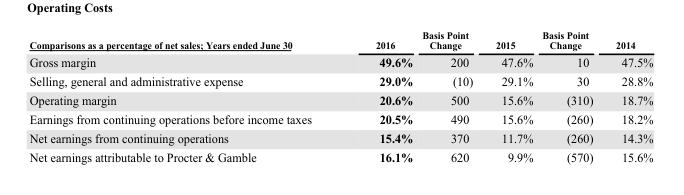table: (28, 28, 652, 163)
table column: (28, 28, 342, 163), (342, 28, 416, 163), (416, 28, 483, 163), (536, 28, 603, 163), (483, 28, 536, 163), (603, 28, 652, 163)
table column header: (28, 28, 652, 52)
table row: (28, 28, 652, 52), (28, 52, 652, 71), (28, 71, 652, 90), (28, 90, 652, 109), (28, 109, 652, 128), (28, 128, 652, 147), (28, 147, 652, 163)
